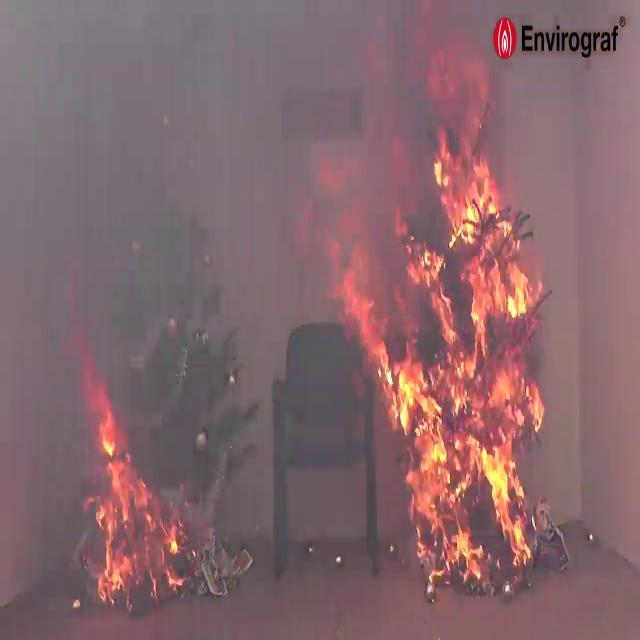Fire: (337, 113, 556, 575), (66, 384, 187, 608)
Smoke: (0, 0, 299, 429)
